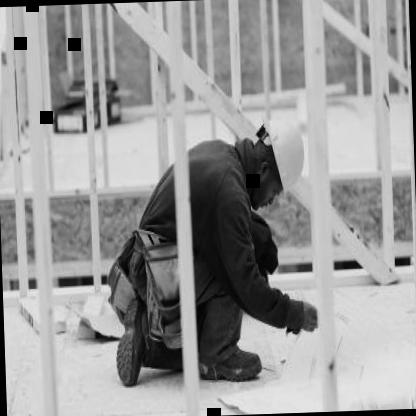helmet: (250, 110, 310, 216)
